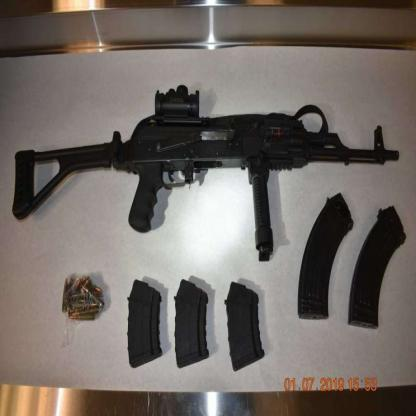Gun: (10, 85, 400, 263)
